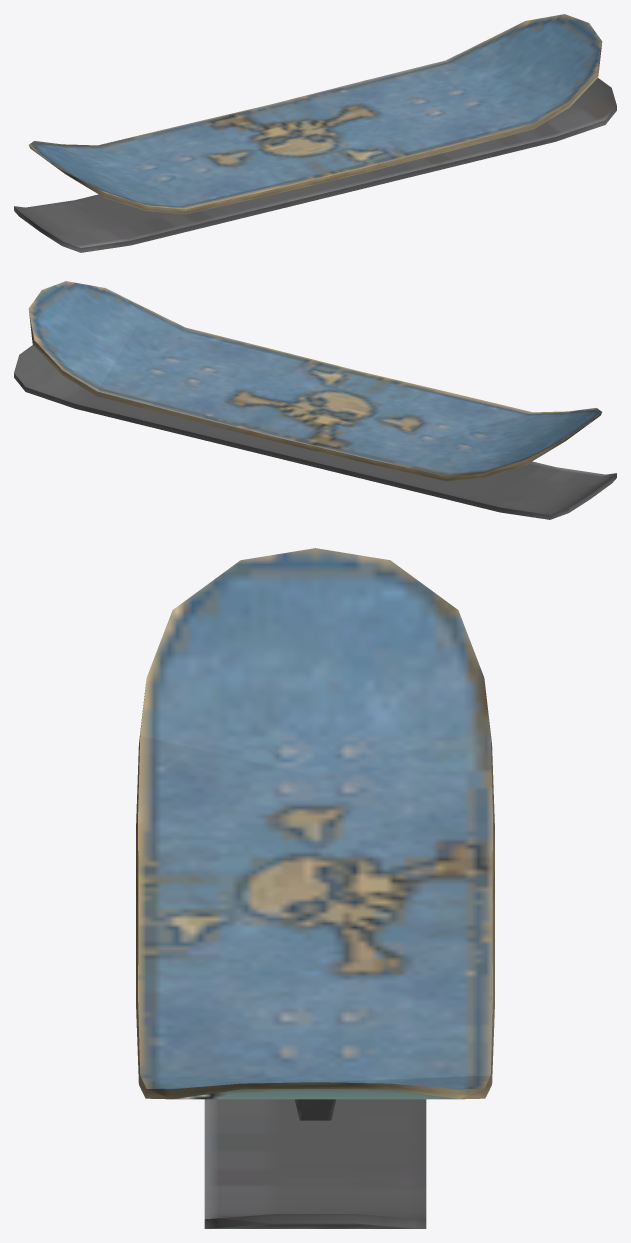
File: Snowskate.obj
3 renders of one model, top to bottom at view 1: azimuth 30°, elevation 25°; view 2: azimuth 150°, elevation 25°; view 3: azimuth 270°, elevation 25°, orthographic. The views are drawn at different scales.
Visible parts, largest first — view 1: Snowskate; view 2: Snowskate; view 3: Snowskate.
Part boxes in pixels (x1,y1,x2,y2): Snowskate: (14,14,616,252); Snowskate: (14,281,616,519); Snowskate: (136,548,494,1228).
Size of the model in its own units: 131 by 18.35 by 35.7.
Materials: 1 (1 with a texture image).
